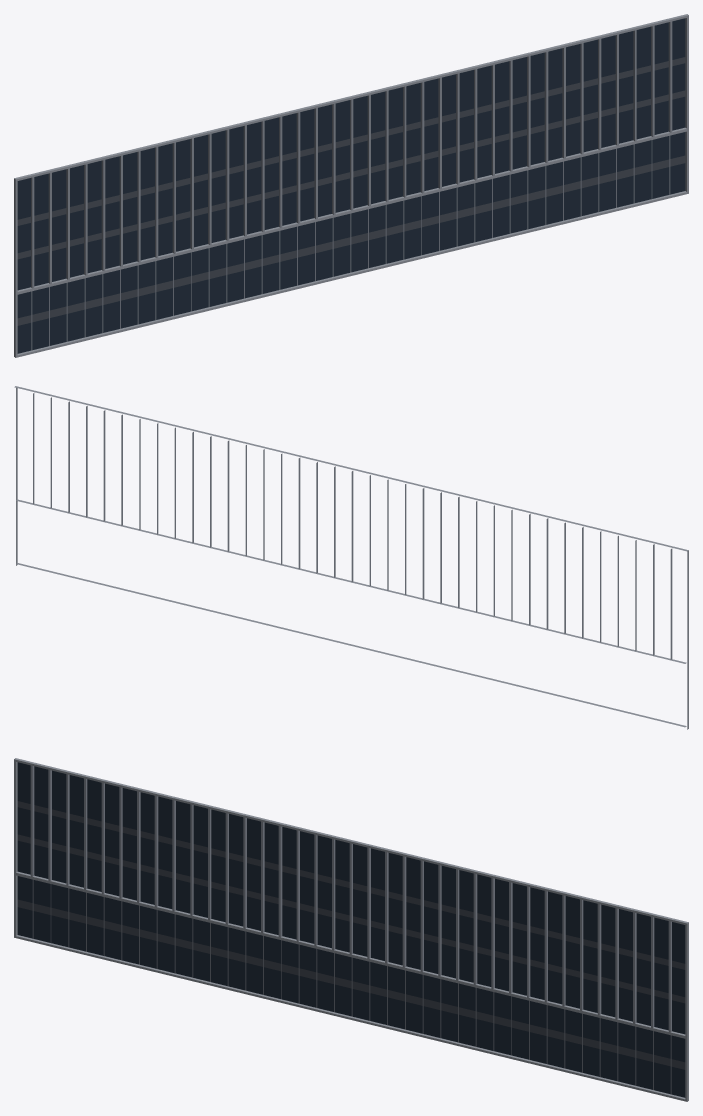
Rendered from east-grille-v4-lo.glb.
3 views of the same model, one above another, from view 1: azimuth 30°, elevation 25°; view 2: azimuth 150°, elevation 25°; view 3: azimuth 330°, elevation 25° (orthographic).
Parts seen in each view (by area): view 1: east_grille_v4_lo; view 2: east_grille_v4_lo; view 3: east_grille_v4_lo.
Boxes of the visible parts, x1=… form: east_grille_v4_lo: x1=14, y1=14, x2=688, y2=357; east_grille_v4_lo: x1=14, y1=386, x2=688, y2=729; east_grille_v4_lo: x1=14, y1=758, x2=688, y2=1101.
Size of the model in its own units: 102 by 25.9 by 0.45.
